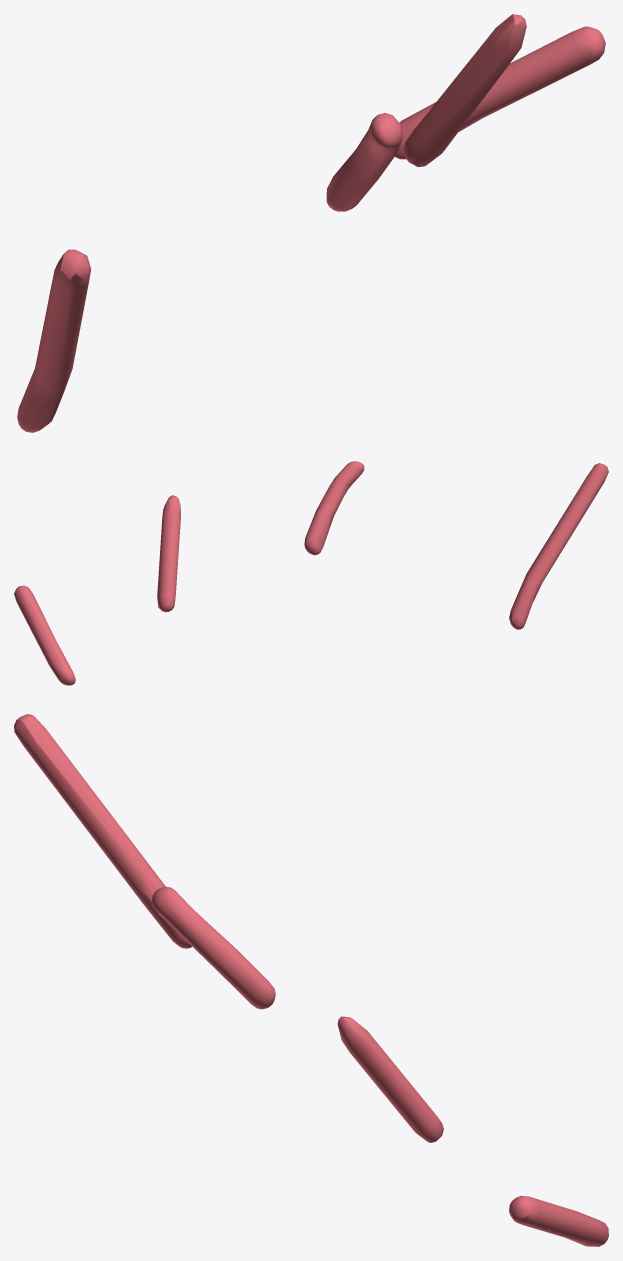
File: fma69517_fj2064.glb
3 views of the same model, one above another, from view 1: azimuth 30°, elevation 25°; view 2: azimuth 150°, elevation 25°; view 3: azimuth 270°, elevation 25° (orthographic). The views are drawn at different scales.
Parts seen in each view (by area): view 1: FMA69517_FJ2064; view 2: FMA69517_FJ2064; view 3: FMA69517_FJ2064.
Part boxes in pixels (x1=…): FMA69517_FJ2064: x1=17, y1=14, x2=605, y2=432; FMA69517_FJ2064: x1=14, y1=461, x2=608, y2=685; FMA69517_FJ2064: x1=14, y1=714, x2=608, y2=1246.
Size of the model in its own units: 0.0391 by 0.0149 by 0.0301.
